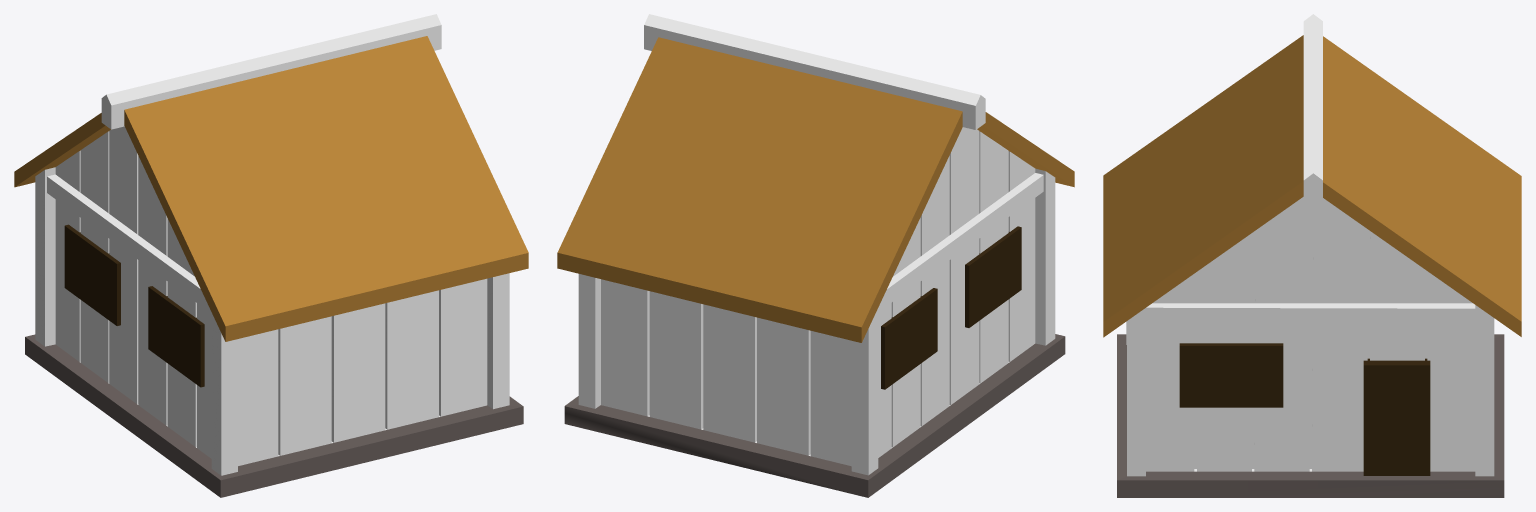
File: PrairieHouse(1).fbx
The picture shows the model from 3 angles, left to right: view 1: azimuth 30°, elevation 25°; view 2: azimuth 150°, elevation 25°; view 3: azimuth 270°, elevation 25°; orthographic projection.
Parts seen in each view (by area): view 1: PrairieHouse(1); view 2: PrairieHouse(1); view 3: PrairieHouse(1).
Part boxes in pixels (box(x1,y1,x2,y2)): PrairieHouse(1): box(14, 14, 528, 497); PrairieHouse(1): box(557, 14, 1074, 497); PrairieHouse(1): box(1103, 14, 1521, 497).
Bounding box in the file's own units: 5.33 × 5.16 × 5.92.
